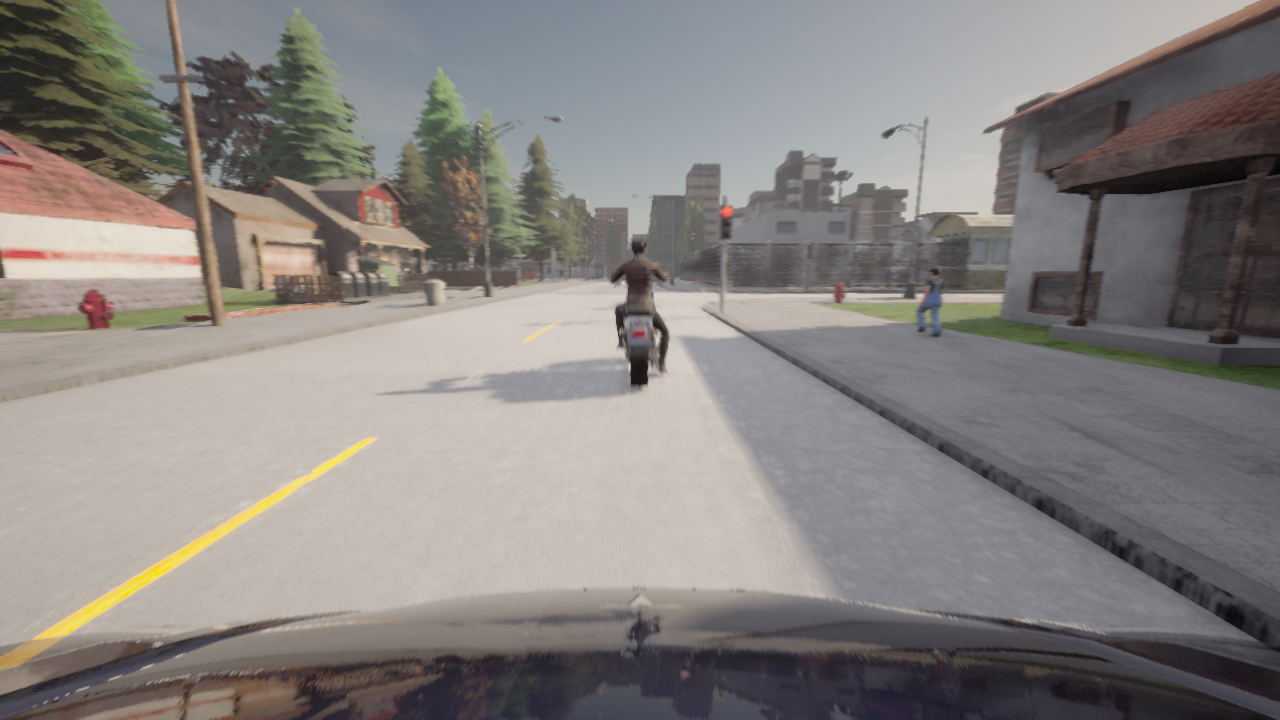cyclist: (0, 588, 1279, 719), (609, 267, 669, 386), (878, 266, 910, 280), (887, 271, 925, 281), (899, 270, 920, 281), (918, 272, 928, 281), (653, 276, 655, 277)
pedestrian: (917, 267, 944, 335), (691, 263, 697, 287)
